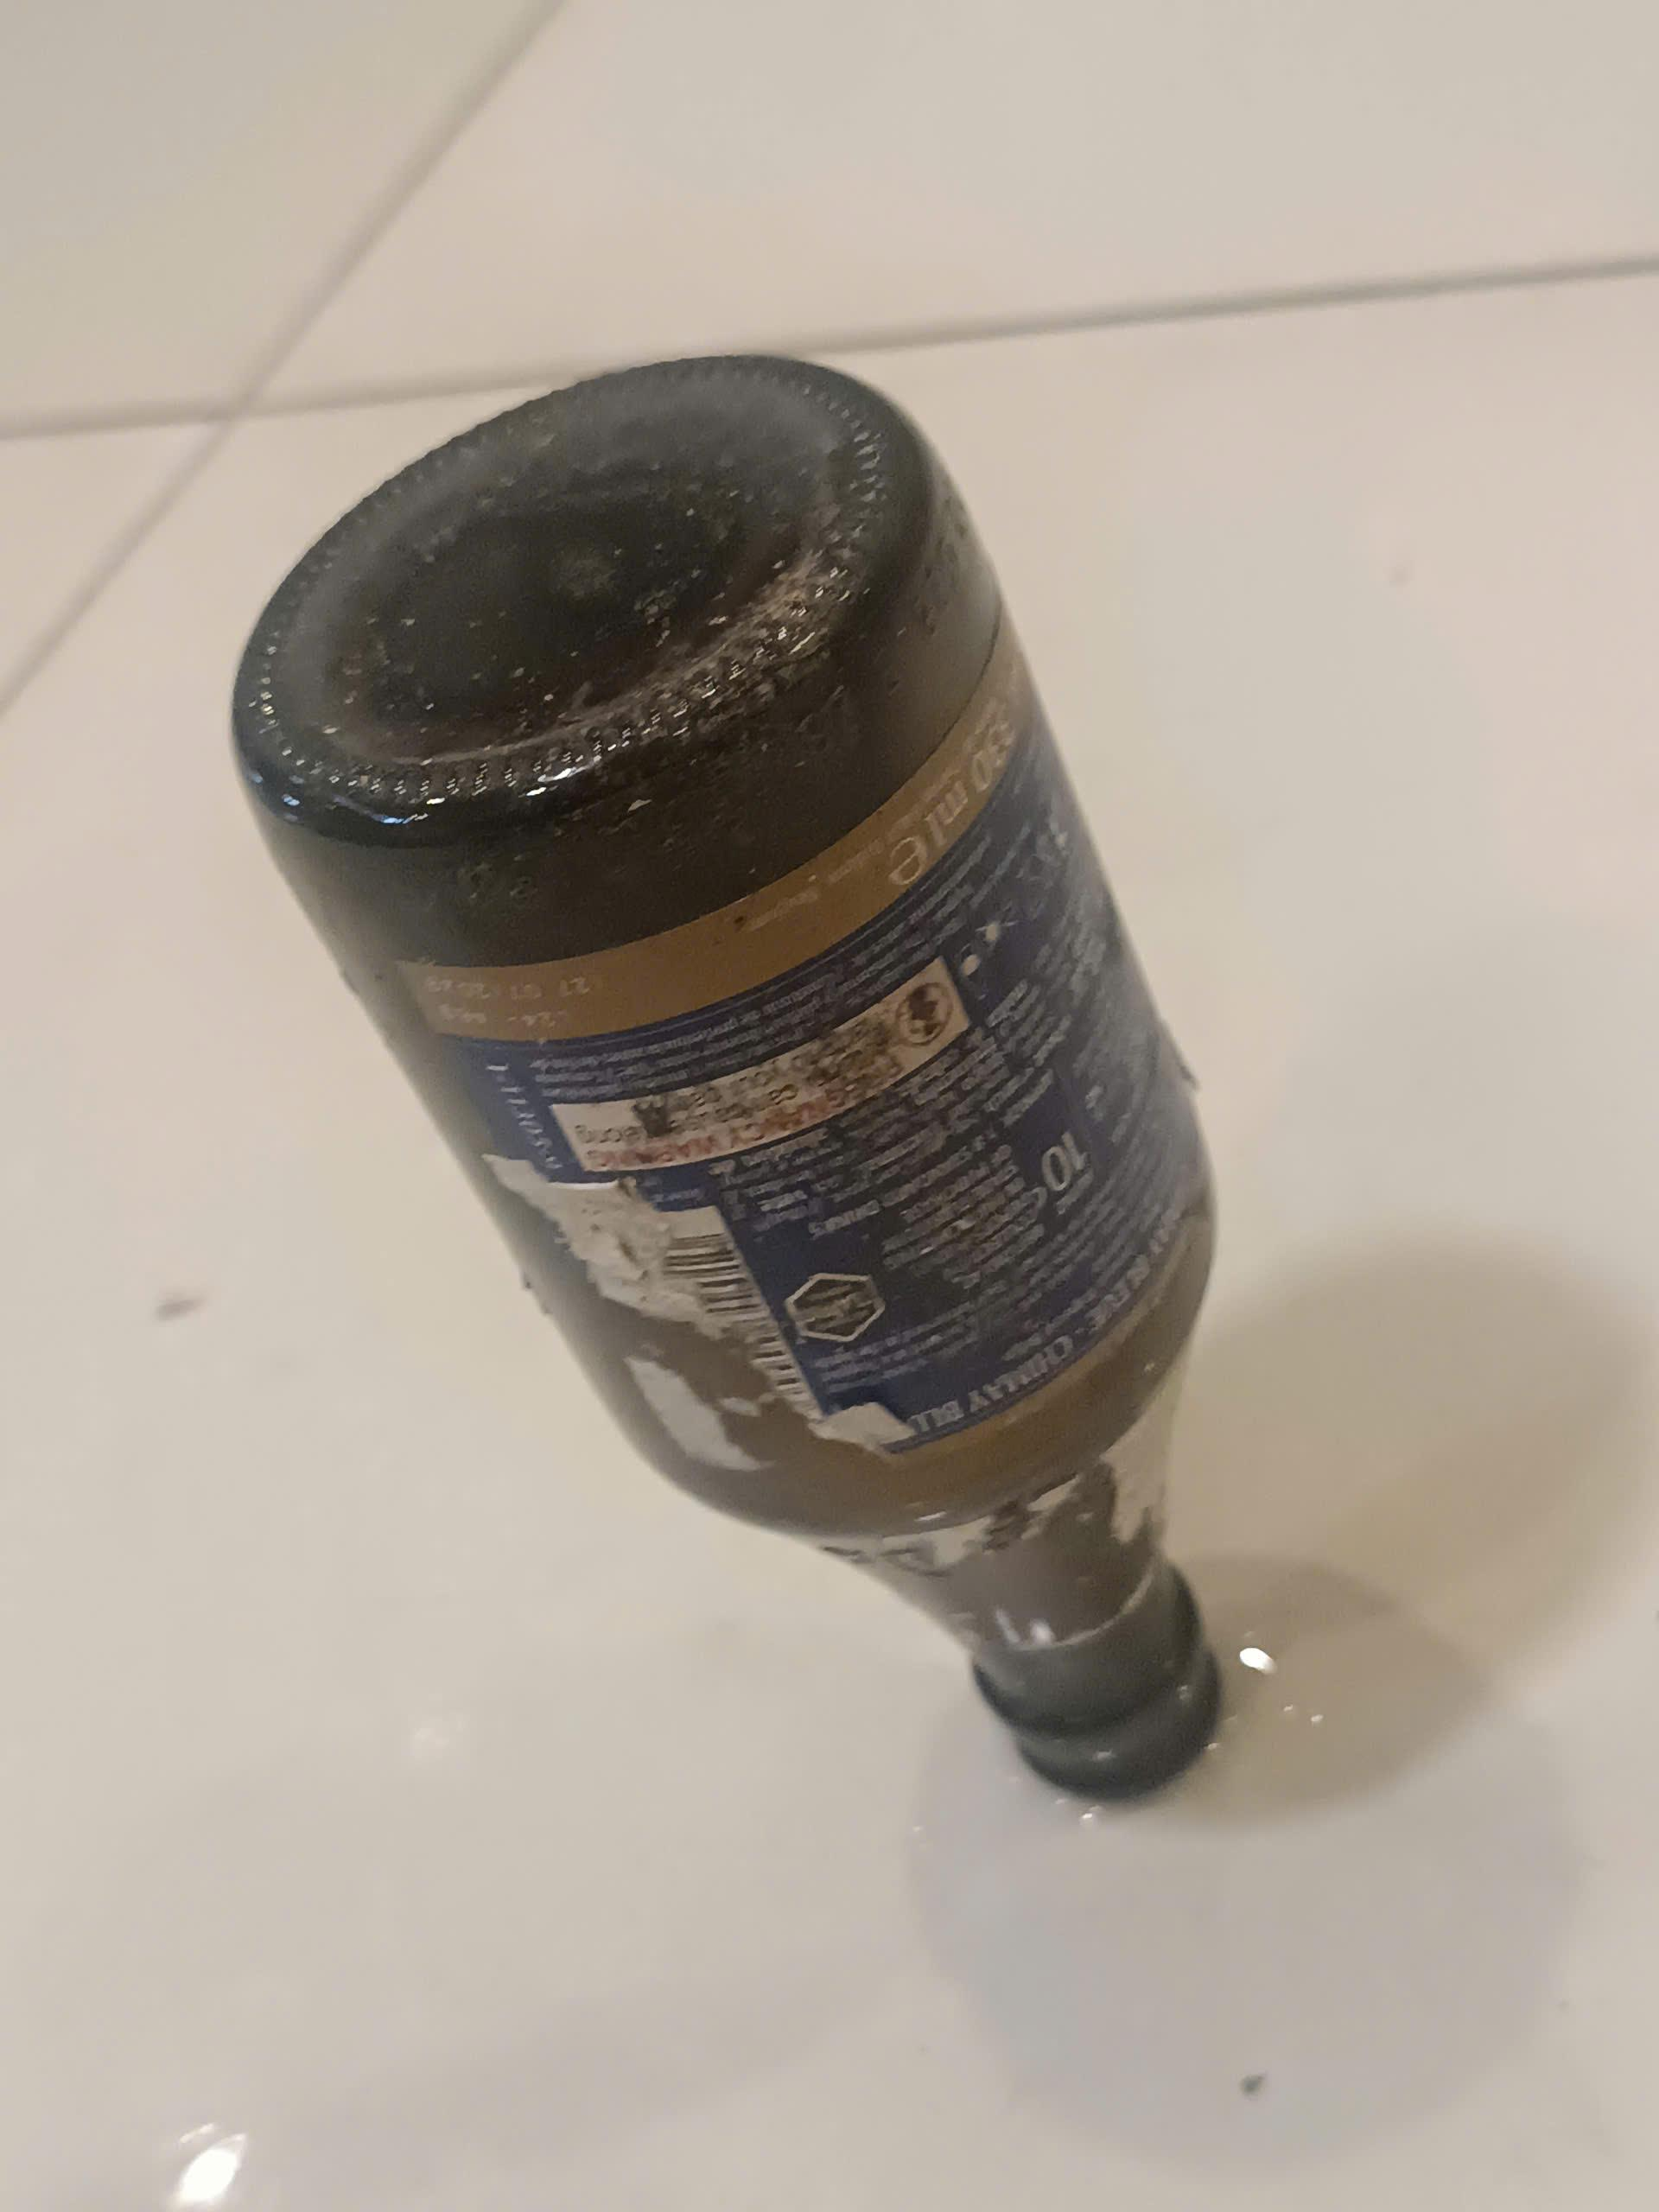Vo co: (225, 355, 1251, 1785)
